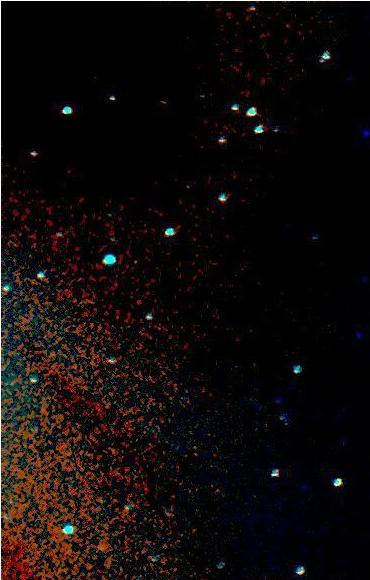star: (88, 532, 118, 562)
